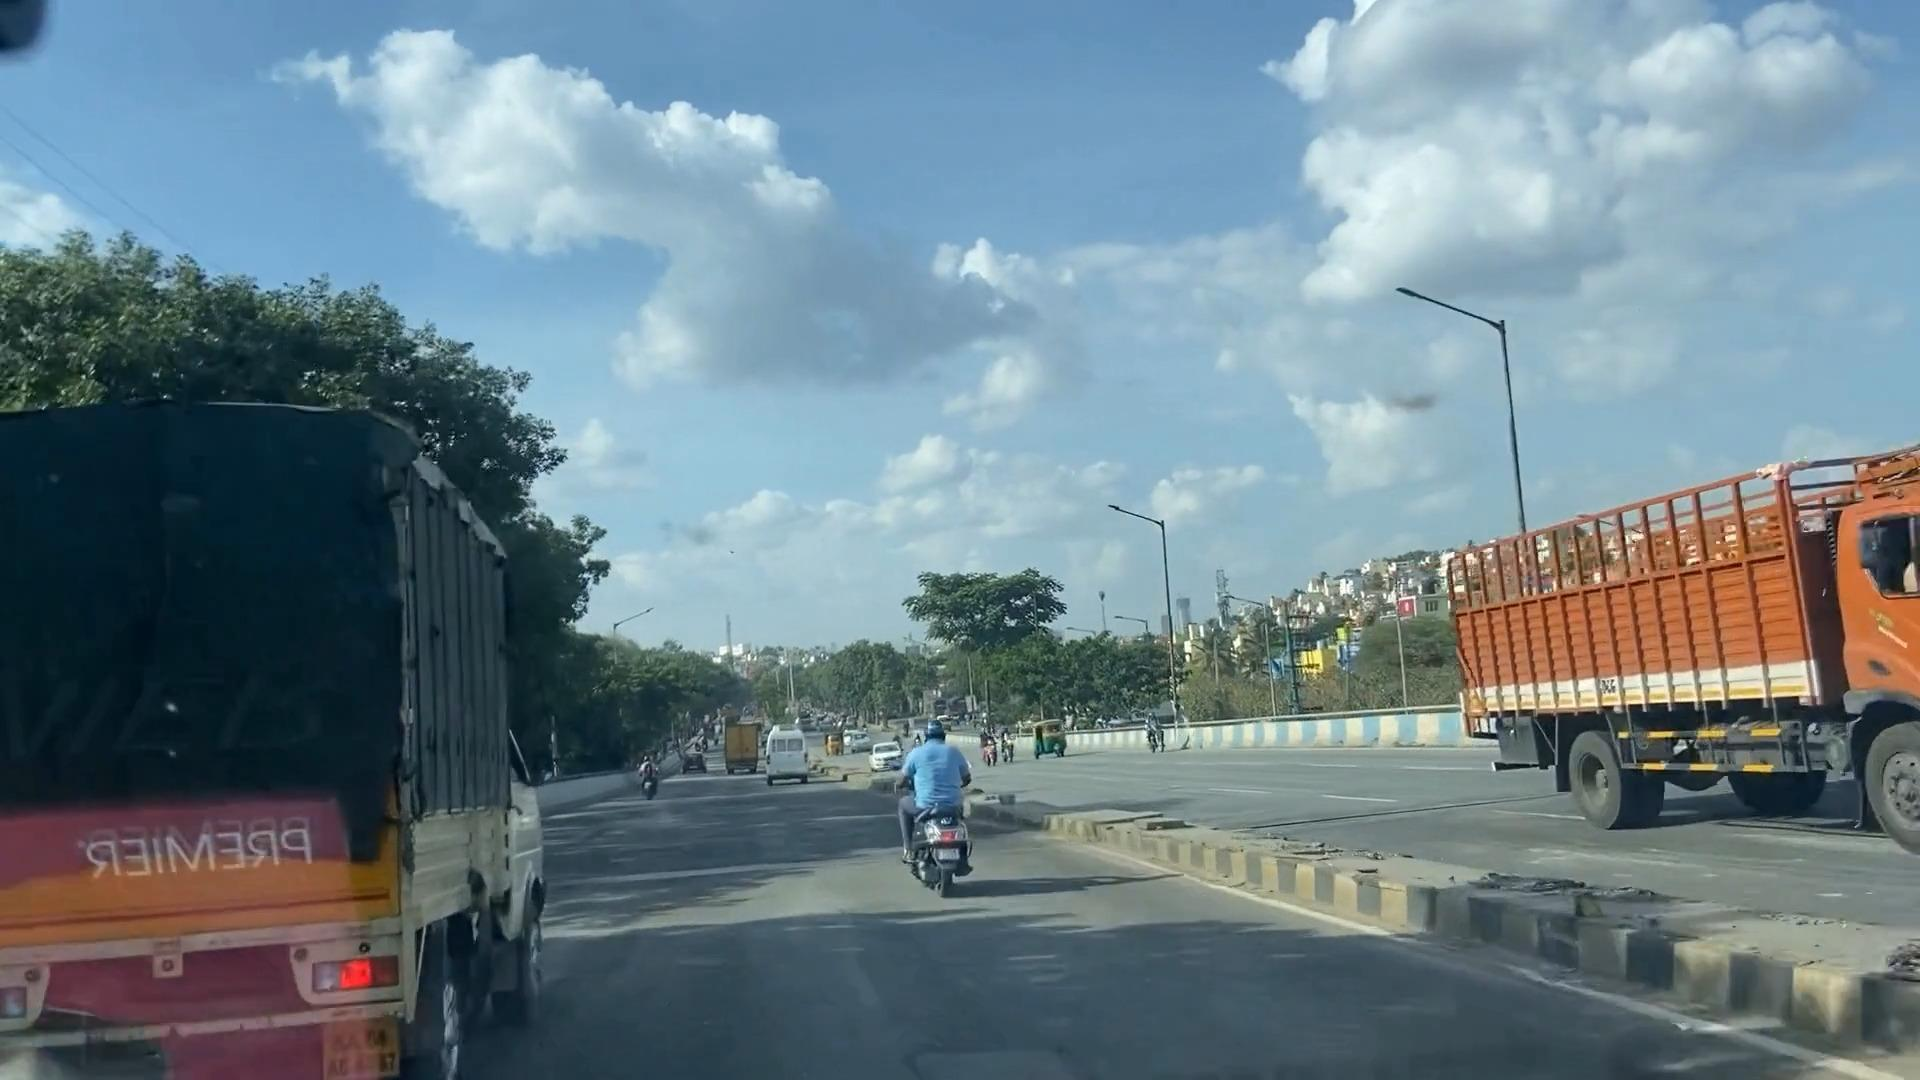HMV: (0, 405, 564, 1080)
LMV: (886, 727, 971, 878)
RoadDamages: (881, 978, 1060, 1080)
